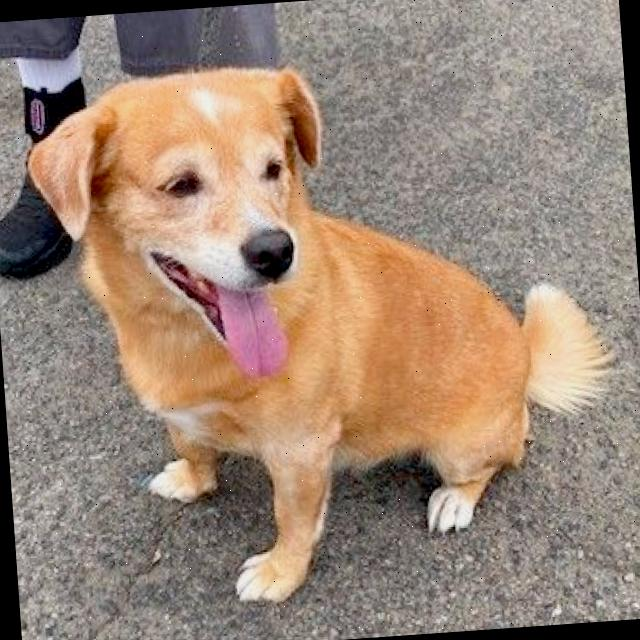corgi_dog: (18, 49, 346, 403)
